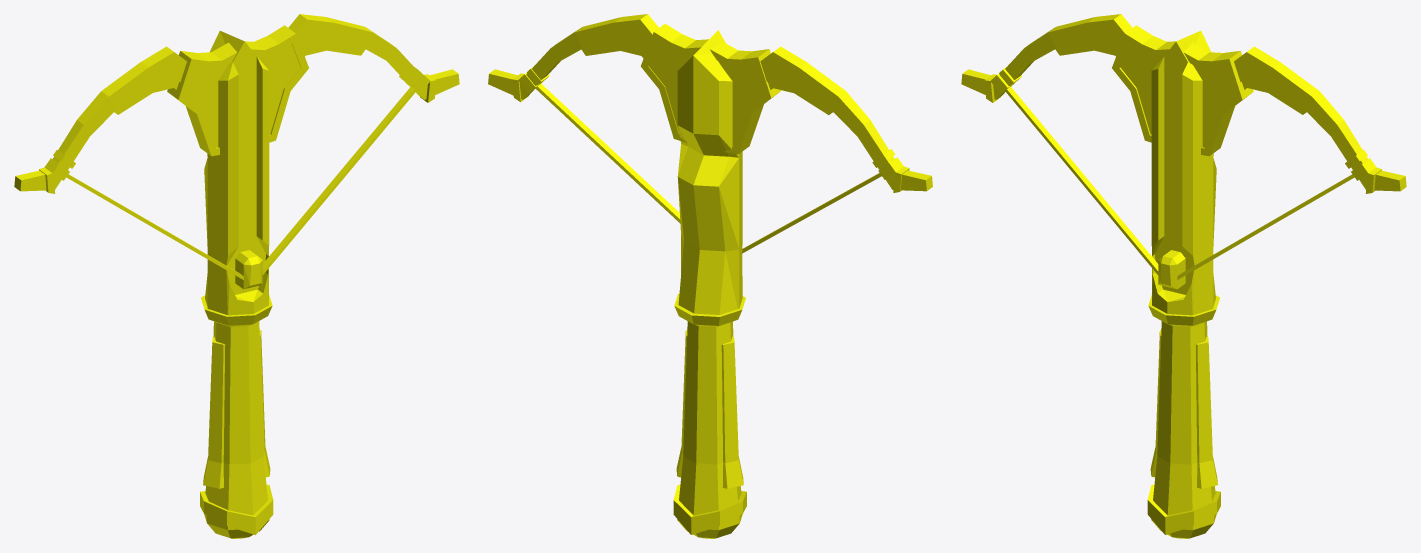
The model's file is _crossbow_8.glb.
3 views of the same model, side by side, from view 1: azimuth 30°, elevation 25°; view 2: azimuth 150°, elevation 25°; view 3: azimuth 330°, elevation 25° (orthographic).
Parts seen in each view (by area): view 1: crossbow_8; view 2: crossbow_8; view 3: crossbow_8.
Boxes of the visible parts, bbox=[...] form: crossbow_8: bbox=[14, 14, 459, 538]; crossbow_8: bbox=[488, 14, 932, 538]; crossbow_8: bbox=[961, 14, 1406, 538].
Bounding box in the file's own units: 19694 × 21448 × 2948.
